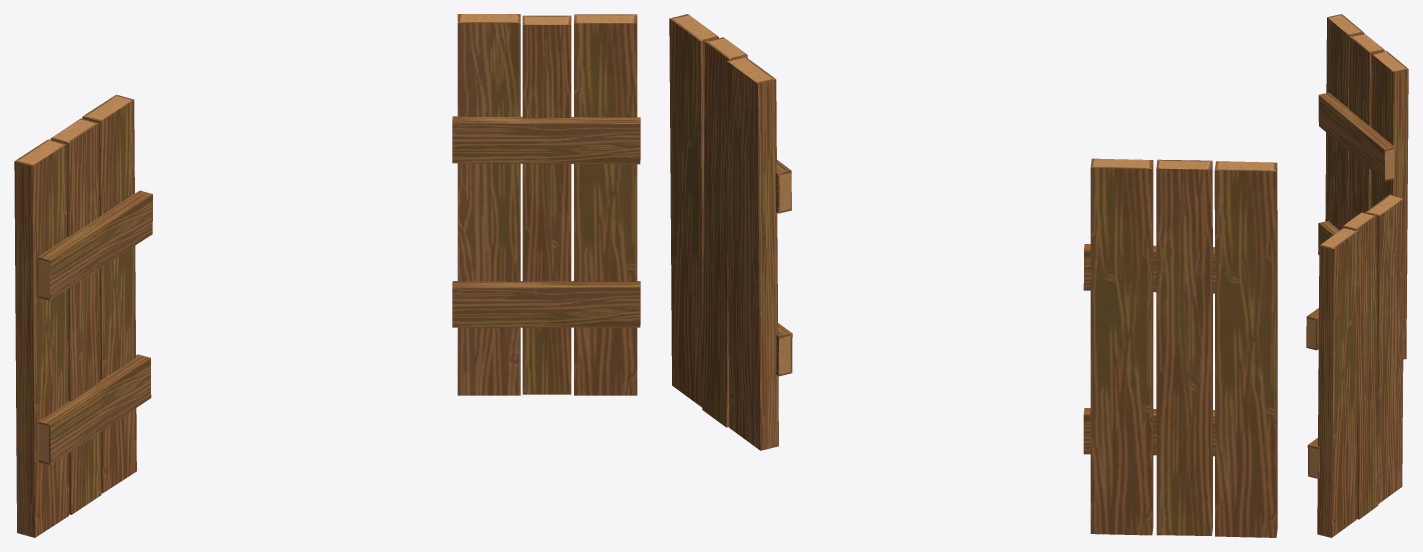
File: WindowShutters_Wide_Flat_Open.gltf
3 renders of one model, left to right at view 1: azimuth 30°, elevation 25°; view 2: azimuth 150°, elevation 25°; view 3: azimuth 270°, elevation 25°, orthographic. The views are drawn at different scales.
Parts seen in each view (by area): view 1: WindowShutters_Wide_Flat_Open; view 2: WindowShutters_Wide_Flat_Open; view 3: WindowShutters_Wide_Flat_Open.
Boxes of the visible parts, left/top/right/bottom form: WindowShutters_Wide_Flat_Open: left=14, top=14, right=640, bottom=537; WindowShutters_Wide_Flat_Open: left=669, top=14, right=1277, bottom=537; WindowShutters_Wide_Flat_Open: left=1306, top=14, right=1408, bottom=537.
Bounding box in the file's own units: 2.48 × 1.42 × 0.4565.
Materials: 1 (1 with a texture image).
